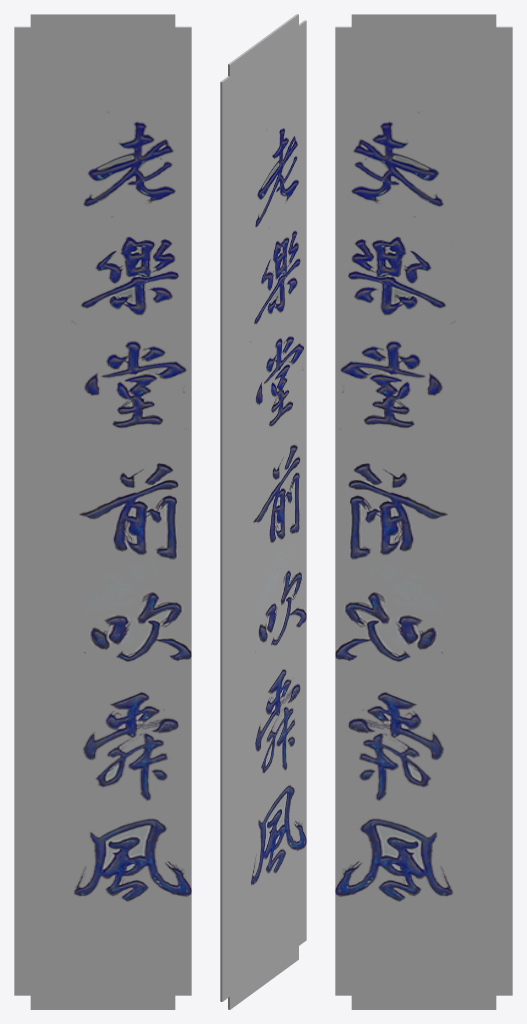
The model's file is SM_Unhyun_Noan_Joo_F001.fbx.
3 renders of one model, left to right at view 1: azimuth 90°, elevation 25°; view 2: azimuth 150°, elevation 25°; view 3: azimuth 270°, elevation 25°, orthographic. The views are drawn at different scales.
Parts seen in each view (by area): view 1: SM_Unhyun_Noan_Joo_F001; view 2: SM_Unhyun_Noan_Joo_F001; view 3: SM_Unhyun_Noan_Joo_F001.
Boxes of the visible parts, bbox=[...] form: SM_Unhyun_Noan_Joo_F001: bbox=[14, 14, 191, 1009]; SM_Unhyun_Noan_Joo_F001: bbox=[220, 14, 306, 1009]; SM_Unhyun_Noan_Joo_F001: bbox=[335, 14, 512, 1009].
Bounding box in the file's own units: 0.2 × 90.01 × 14.56.
